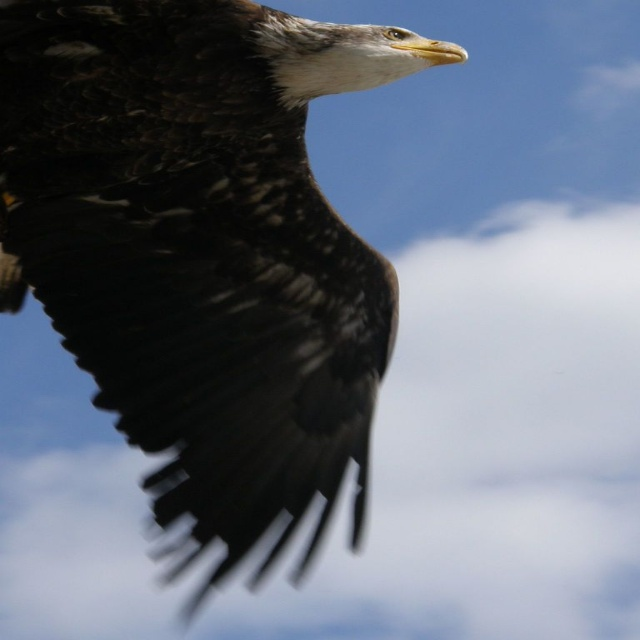Eagle: (0, 0, 469, 620)
